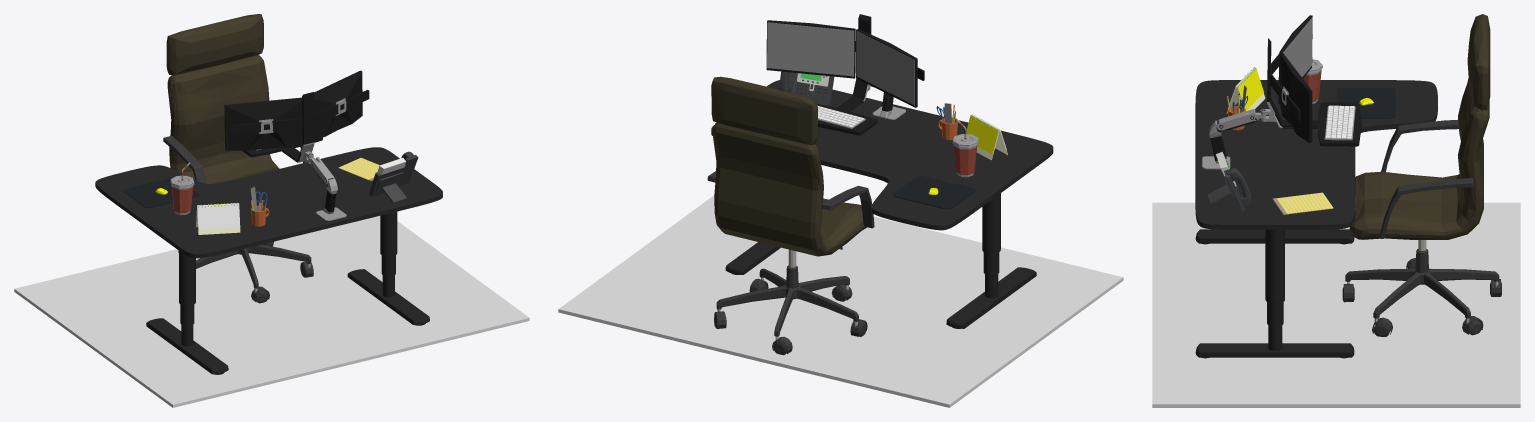
File: DeskSetup.glb
3 views of the same model, side by side, from view 1: azimuth 30°, elevation 25°; view 2: azimuth 150°, elevation 25°; view 3: azimuth 270°, elevation 25° (orthographic). The views are drawn at different scales.
Visible parts, largest first — view 1: Cube, Desk, Node, Dual Monitors on sit-stand arm|group1691283673|Dupli|23, Dual Monitors on sit-stand arm|group860618825|Dupli|22, Office Phone.001, Calendar-8GqQAqxi3qk, Dual Monitors on sit-stand arm|group2128326706|Dupli|16, Mousepad.001, Dual Monitors on sit-stand arm|group150401702|Dupli|15, Soda.001|Soda|Dupli|, Notebook|Notebook_Cube.041|Dupli| (+1 smaller); view 2: Cube, Node, Desk, Dual Monitors on sit-stand arm|group860618825|Dupli|22, Dual Monitors on sit-stand arm|group1691283673|Dupli|23, Mousepad.001, Office Phone.001, Calendar-8GqQAqxi3qk, Soda.001|Soda|Dupli|, Dual Monitors on sit-stand arm|group150401702|Dupli|15, Dual Monitors on sit-stand arm|group974294459|Dupli|17, Mug With Office Tool|Mug with office tools|Dupli|; view 3: Cube, Desk, Node, Dual Monitors on sit-stand arm|group860618825|Dupli|22, Mousepad.001, Dual Monitors on sit-stand arm|group1691283673|Dupli|23, Office Phone.001, Dual Monitors on sit-stand arm|group974294459|Dupli|17, Notebook|Notebook_Cube.041|Dupli|, Calendar-8GqQAqxi3qk, Dual Monitors on sit-stand arm|group150401702|Dupli|15, Dual Monitors on sit-stand arm|group329542522|Dupli| (+5 smaller).
Boxes of the visible parts, x1,y1,x2,y2 form: Cube: (14,216,529,407); Desk: (95,147,442,374); Node: (163,14,313,303); Dual Monitors on sit-stand arm|group1691283673|Dupli|23: (224,97,302,150); Dual Monitors on sit-stand arm|group860618825|Dupli|22: (314,70,362,139); Office Phone.001: (369,151,418,203); Calendar-8GqQAqxi3qk: (196,202,240,234); Dual Monitors on sit-stand arm|group2128326706|Dupli|16: (230,89,369,134); Mousepad.001: (123,177,198,207); Dual Monitors on sit-stand arm|group150401702|Dupli|15: (282,92,314,162); Soda.001|Soda|Dupli|: (170,162,194,215); Notebook|Notebook_Cube.041|Dupli|: (338,157,379,181); Cube: (558,195,1123,407); Node: (707,76,874,355); Desk: (711,80,1053,328); Dual Monitors on sit-stand arm|group860618825|Dupli|22: (766,20,855,78); Dual Monitors on sit-stand arm|group1691283673|Dupli|23: (856,29,917,107); Mousepad.001: (893,176,975,209); Office Phone.001: (779,71,834,105); Calendar-8GqQAqxi3qk: (966,114,1007,160); Soda.001|Soda|Dupli|: (952,119,978,177); Dual Monitors on sit-stand arm|group150401702|Dupli|15: (836,14,871,111); Dual Monitors on sit-stand arm|group974294459|Dupli|17: (817,104,877,135); Mug With Office Tool|Mug with office tools|Dupli|: (936,103,957,140); Cube: (1152,202,1520,407); Desk: (1195,80,1437,358); Node: (1342,14,1501,336); Dual Monitors on sit-stand arm|group860618825|Dupli|22: (1280,53,1312,142); Mousepad.001: (1336,87,1395,118); Dual Monitors on sit-stand arm|group1691283673|Dupli|23: (1278,15,1312,104); Office Phone.001: (1207,151,1251,211); Dual Monitors on sit-stand arm|group974294459|Dupli|17: (1318,102,1361,146); Notebook|Notebook_Cube.041|Dupli|: (1272,192,1333,214); Calendar-8GqQAqxi3qk: (1226,67,1265,113); Dual Monitors on sit-stand arm|group150401702|Dupli|15: (1267,38,1317,128); Dual Monitors on sit-stand arm|group329542522|Dupli|: (1202,135,1230,169).
Bounding box in the file's own units: 2.79 × 1.76 × 2.15.
Materials: 32 (3 with a texture image).
